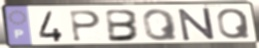4: (38, 10, 65, 43)
B: (105, 9, 143, 43)
N: (176, 7, 217, 42)
P: (68, 10, 103, 43)
Q: (141, 8, 181, 42), (216, 7, 252, 41)
